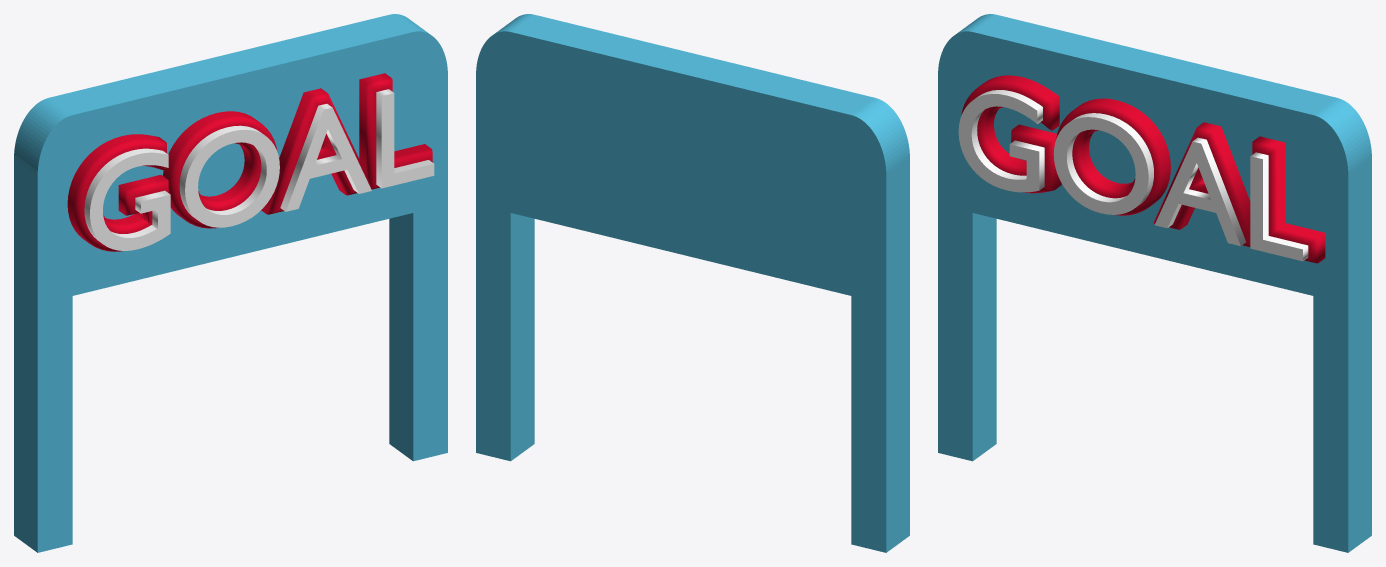
Rendered from GOAL.fbx.
3 renders of one model, left to right at view 1: azimuth 30°, elevation 25°; view 2: azimuth 150°, elevation 25°; view 3: azimuth 330°, elevation 25°, orthographic.
Visible parts, largest first — view 1: 平面, テキスト, テキスト.001; view 2: 平面; view 3: 平面, テキスト, テキスト.001.
Part boxes in pixels (x1,y1,x2,y2): 平面: (14, 14, 447, 552); テキスト: (84, 89, 434, 250); テキスト.001: (67, 73, 432, 251); 平面: (476, 14, 909, 552); 平面: (938, 14, 1371, 552); テキスト: (958, 90, 1308, 261); テキスト.001: (961, 75, 1325, 263).
Bounding box in the file's own units: 737 × 737 × 123.
